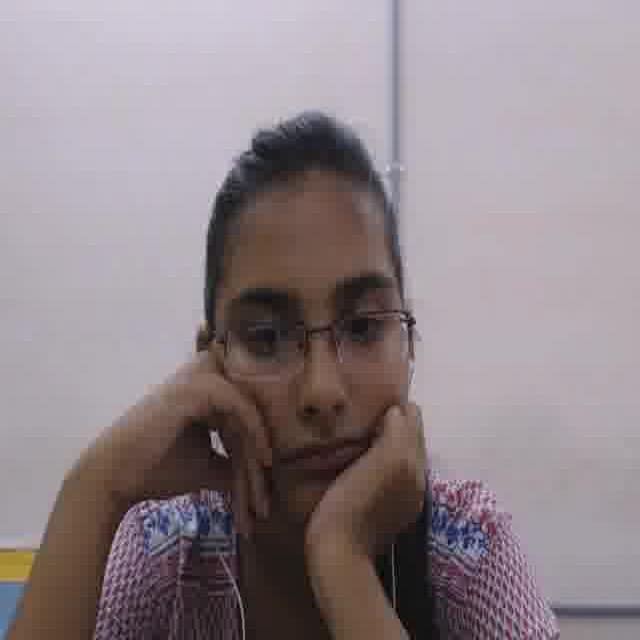Frustration: (213, 203, 403, 525)
